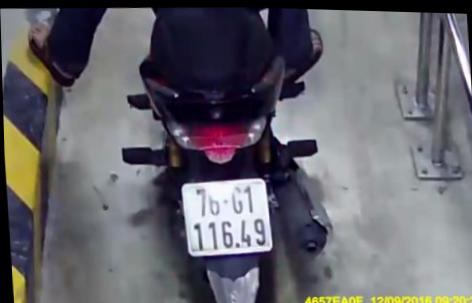LP: (177, 174, 273, 257)
